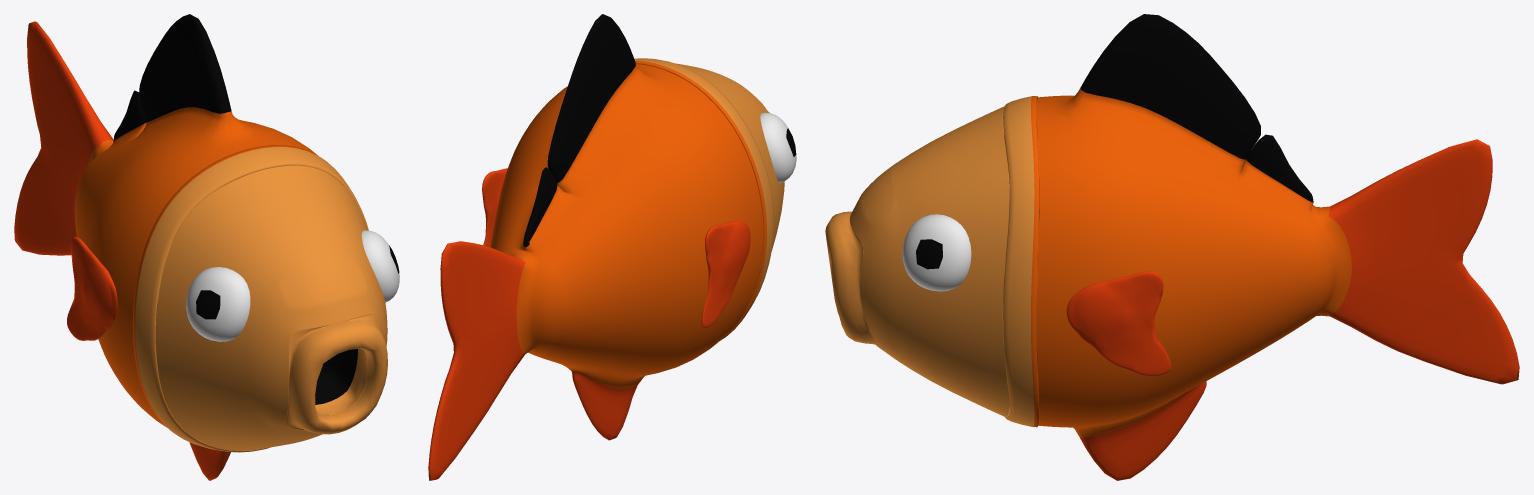
File: Fish.fbx
The picture shows the model from 3 angles, left to right: view 1: azimuth 30°, elevation 25°; view 2: azimuth 150°, elevation 25°; view 3: azimuth 270°, elevation 25°; orthographic projection. The views are drawn at different scales.
Parts seen in each view (by area): view 1: Cube, Cube.001, Cube.002; view 2: Cube, Cube.002, Cube.001; view 3: Cube, Cube.002, Cube.001.
Part boxes in pixels (x1,y1,x2,y2): Cube: (14, 14, 387, 480); Cube.001: (186, 230, 399, 341); Cube.002: (67, 237, 117, 340); Cube: (428, 14, 784, 480); Cube.002: (482, 168, 750, 327); Cube.001: (760, 112, 796, 183); Cube: (825, 14, 1519, 480); Cube.002: (1066, 271, 1170, 376); Cube.001: (902, 214, 971, 291).
Size of the model in its own units: 150 by 262 by 353.
